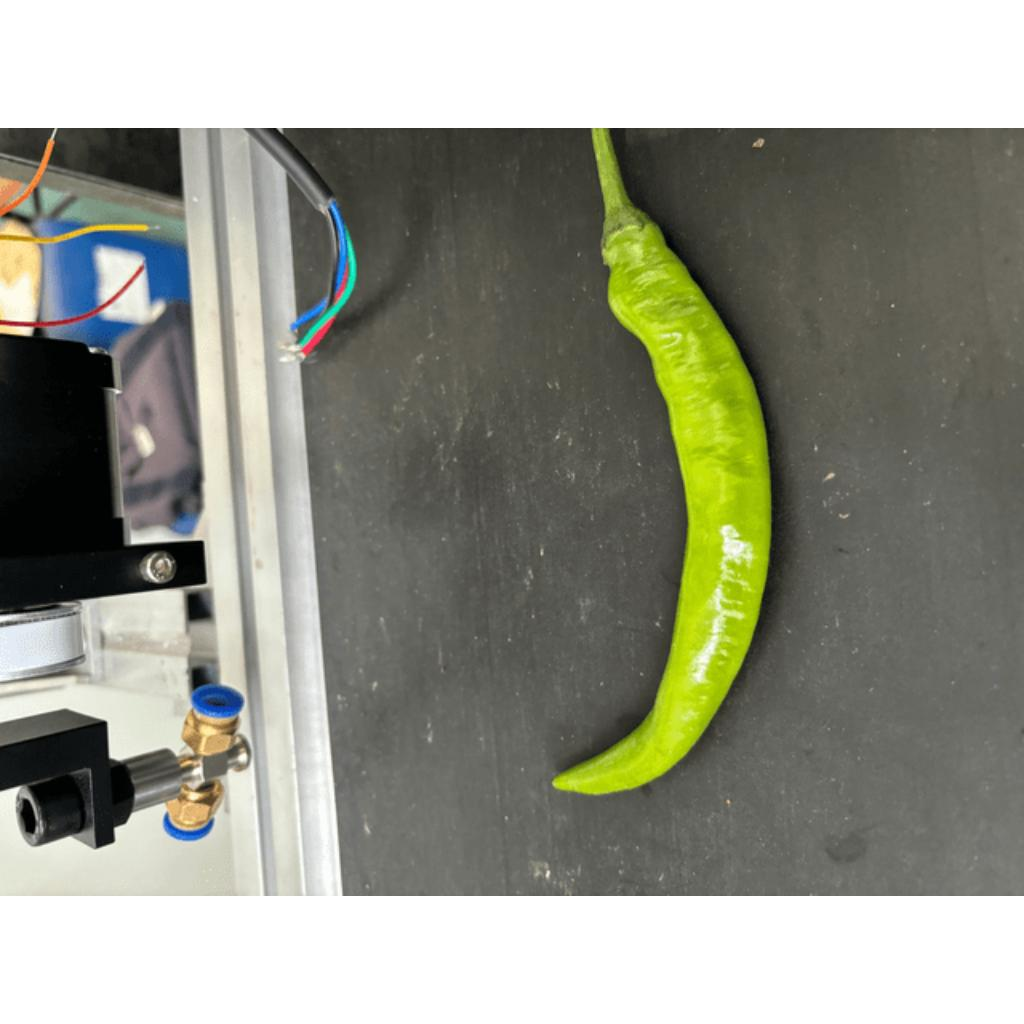chili: (544, 202, 777, 798)
